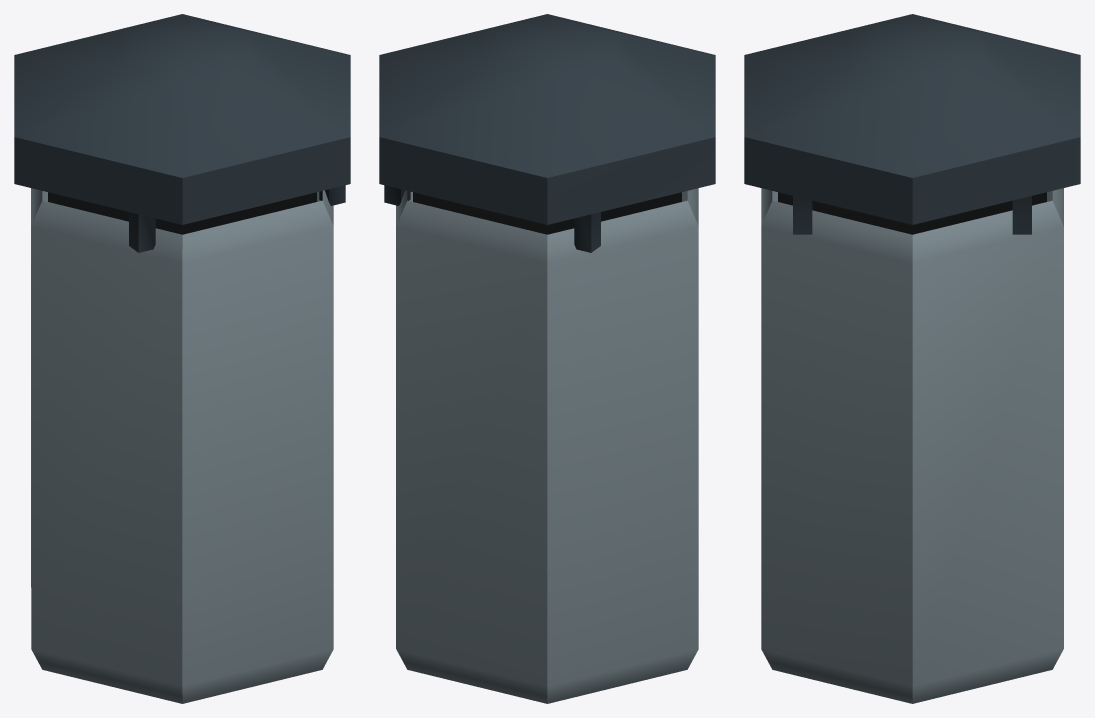
File: litter-bin.lod2.glb
3 views of the same model, side by side, from view 1: azimuth 30°, elevation 25°; view 2: azimuth 150°, elevation 25°; view 3: azimuth 270°, elevation 25° (orthographic).
Parts seen in each view (by area): view 1: structure; view 2: structure; view 3: structure.
Part boxes in pixels (x1,y1,x2,y2): structure: [14, 14, 350, 703]; structure: [379, 14, 715, 703]; structure: [744, 14, 1080, 703].
Size of the model in its own units: 0.6 by 1.01 by 0.5196.
